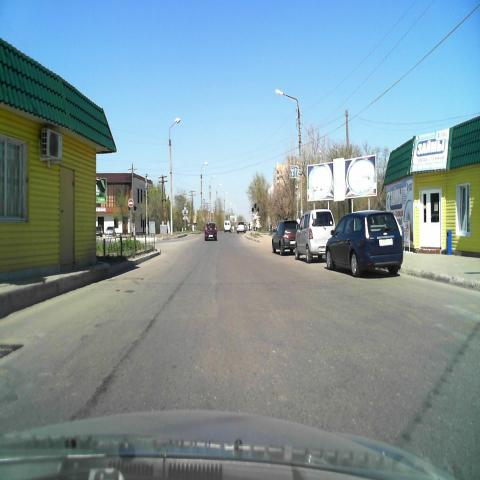5_11: (290, 165, 298, 179)
